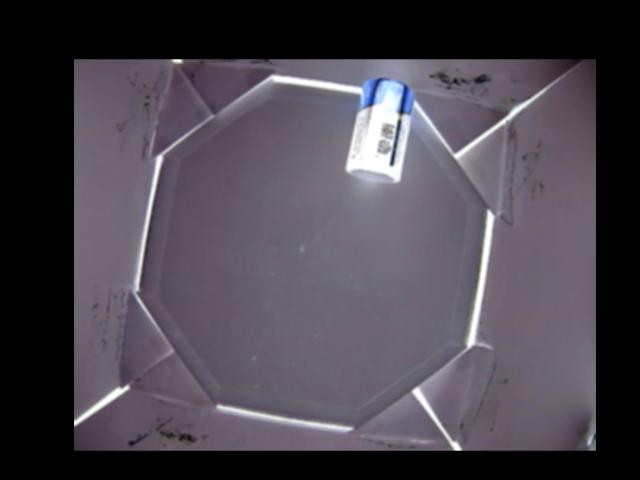Battery: (347, 76, 416, 183)
